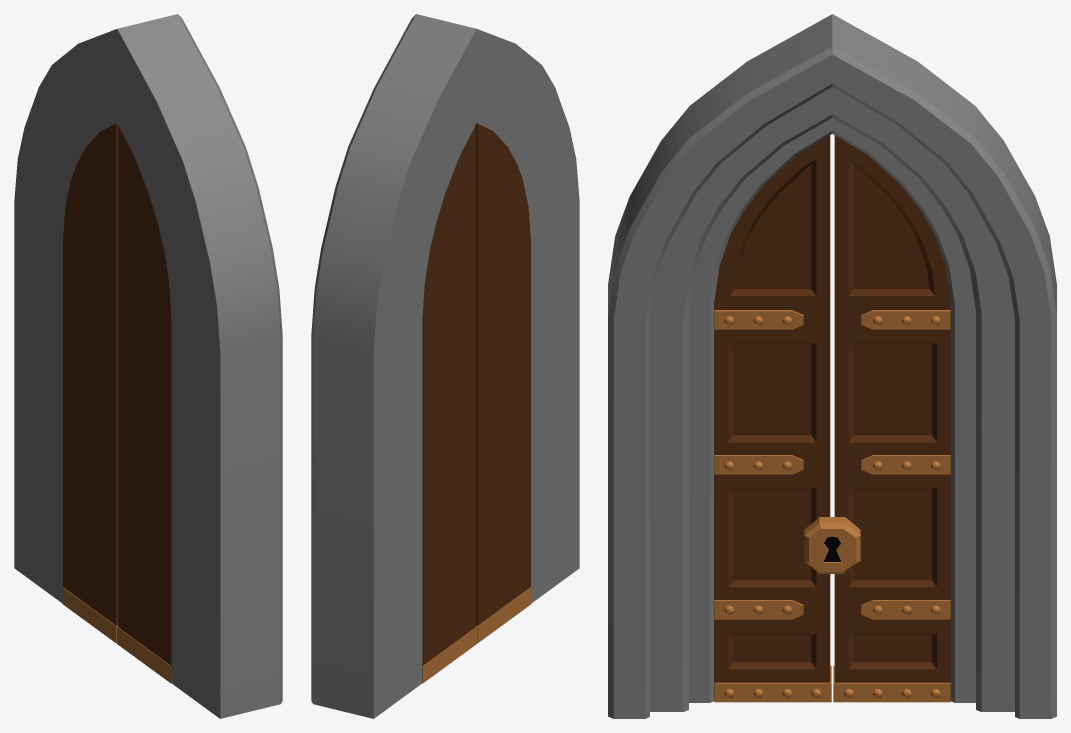
The model's file is Boss_Door.fbx.
3 renders of one model, left to right at view 1: azimuth 30°, elevation 25°; view 2: azimuth 150°, elevation 25°; view 3: azimuth 270°, elevation 25°, orthographic. The views are drawn at different scales.
Visible parts, largest first — view 1: Large_Door_Frame, Large_Door; view 2: Large_Door_Frame, Large_Door; view 3: Large_Door_Frame, Large_Door, Lock.
Boxes of the visible parts, x1=… form: Large_Door_Frame: x1=14, y1=14, x2=282, y2=718; Large_Door: x1=62, y1=123, x2=171, y2=683; Large_Door_Frame: x1=311, y1=14, x2=579, y2=718; Large_Door: x1=422, y1=123, x2=531, y2=683; Large_Door_Frame: x1=608, y1=14, x2=1056, y2=718; Large_Door: x1=714, y1=135, x2=950, y2=702; Lock: x1=804, y1=517, x2=860, y2=573.
Bounding box in the file's own units: 55.81 × 500 × 304.
